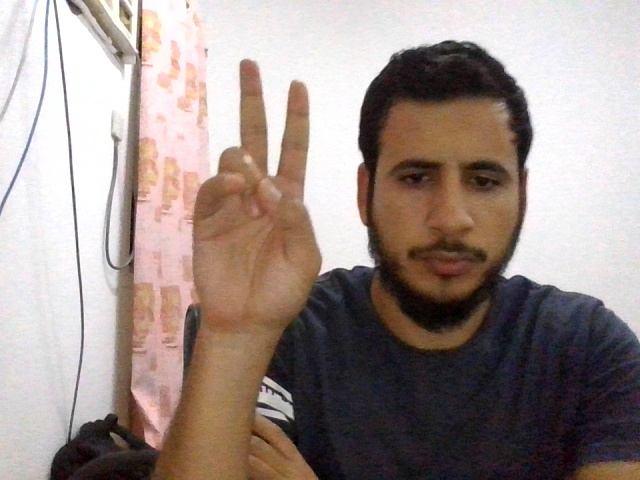Two: (192, 59, 321, 333)
